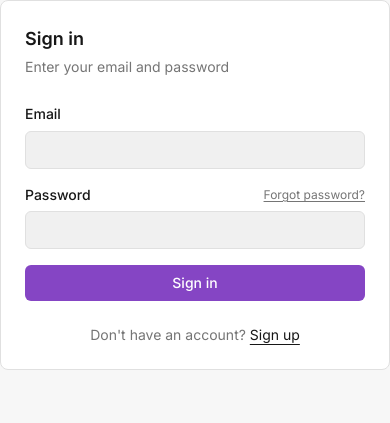
Test: LoginPage › displays server error message on auth failure
The width and height of the screenshot is (390, 423).
In the field labelled "Email": (195, 150) top-left (25, 131), bottom-right (365, 169), type "wrong@example.com"
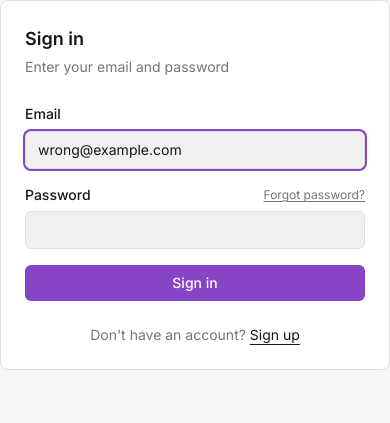
In the password field labelled "Password": (195, 230) top-left (25, 211), bottom-right (365, 249), type "badpassword"
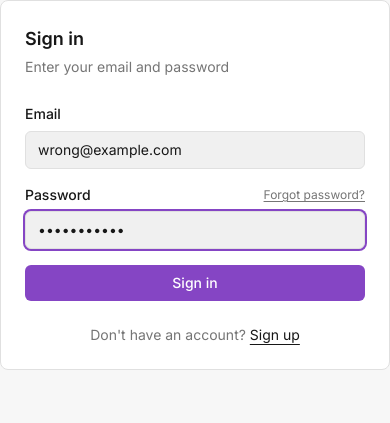
Click the button "Sign in": (195, 283) top-left (25, 265), bottom-right (365, 301)
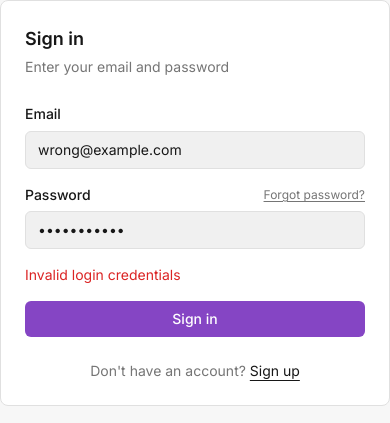
Now the text "Invalid login credentials" is shown, box top-left (25, 266), bottom-right (181, 283)
